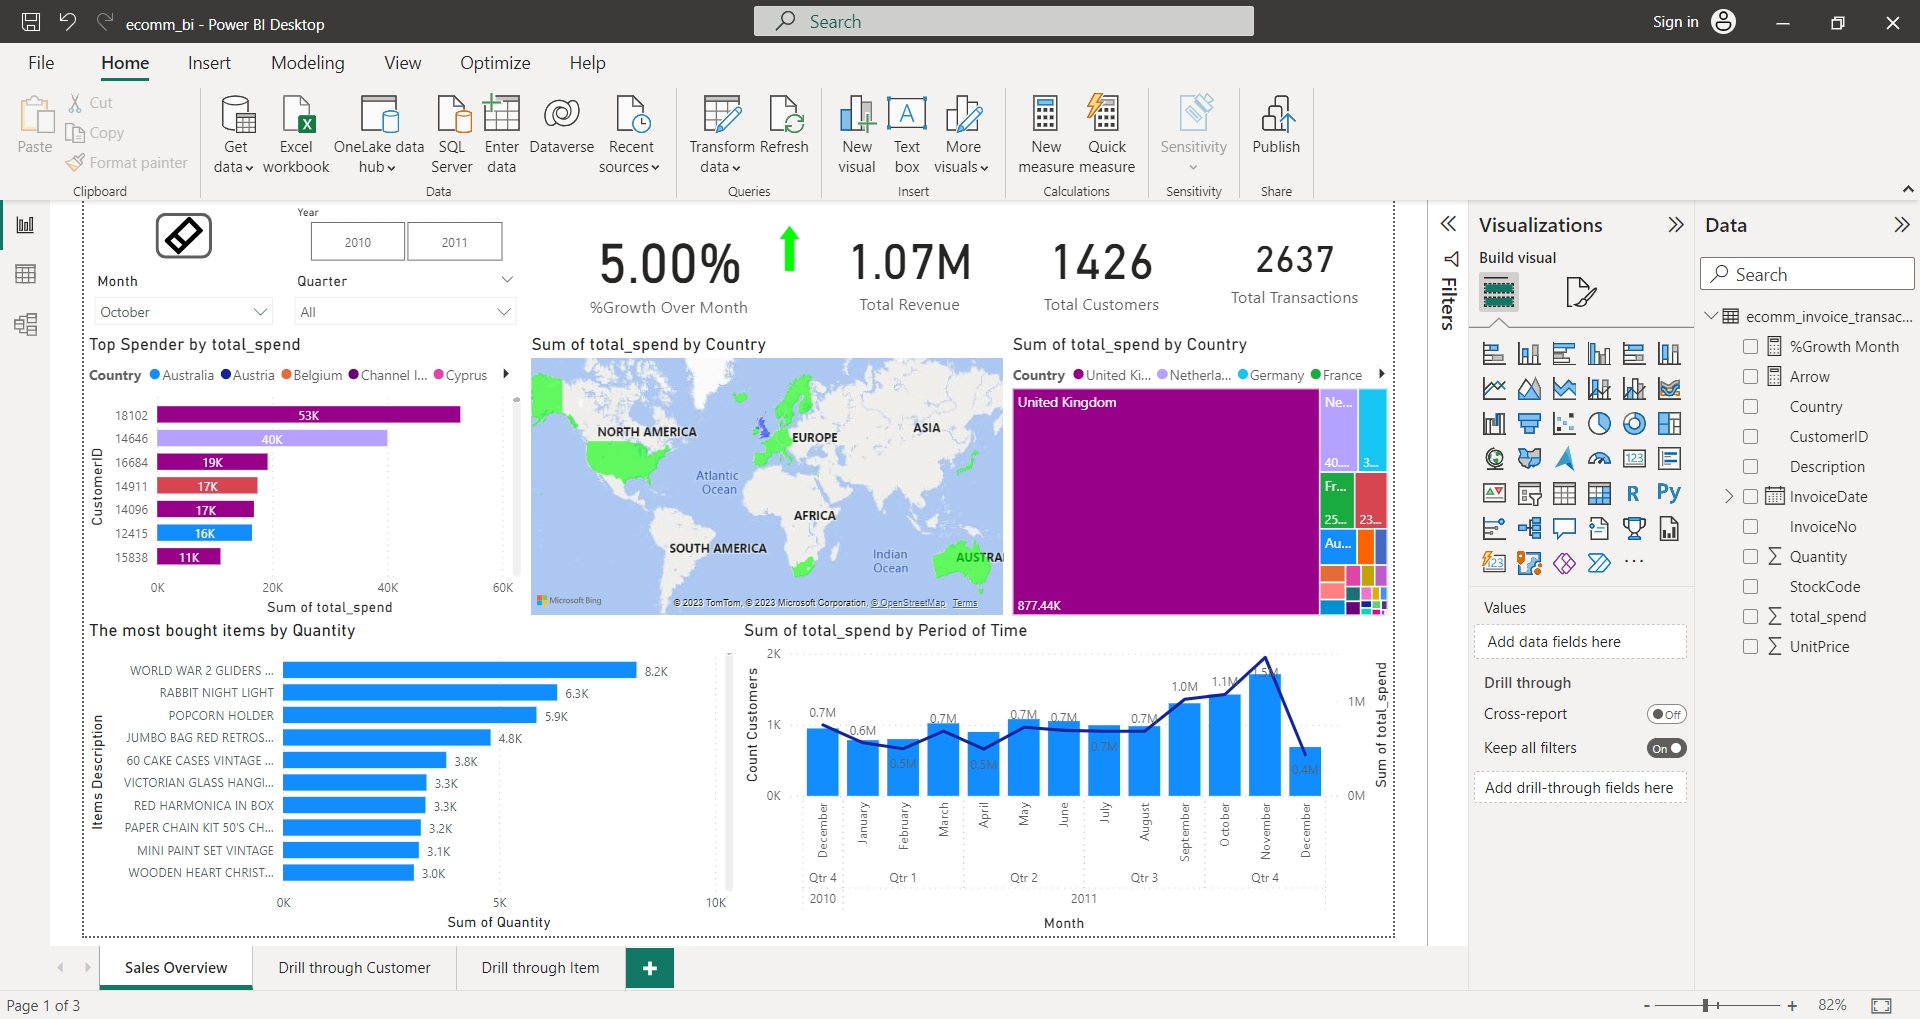

Layout of this report page (visuals, bound fields, positions):
{"tool":"powerbi","page":{"name":"Sales Overview","canvas":[1280,720],"ordinal":0},"visuals":[{"type":"barChart","title":"The most bought items by Quantity","fields":{"Category":["ecomm_invoice_transaction.Description"],"Y":["Sum(ecomm_invoice_transaction.Quantity)"]},"box":[0,411.3,640.3,308.5],"z":0},{"type":"filledMap","fields":{"Category":["ecomm_invoice_transaction.Country"]},"box":[432.5,131.2,471.2,280],"z":1000},{"type":"treemap","fields":{"Group":["ecomm_invoice_transaction.Country"],"Values":["Sum(ecomm_invoice_transaction.total_spend)"]},"box":[903.8,131.2,376.2,280],"z":2000},{"type":"barChart","title":"Top Spender by total_spend","fields":{"Category":["ecomm_invoice_transaction.CustomerID"],"Y":["Sum(ecomm_invoice_transaction.total_spend)"],"Series":["ecomm_invoice_transaction.Country"]},"box":[0,131.2,432.5,280],"z":3000},{"type":"card","fields":{"Values":["Sum(ecomm_invoice_transaction.total_spend)"]},"box":[711.2,0,192.5,131.2],"z":4000},{"type":"card","fields":{"Values":["ecomm_invoice_transaction.%Growth Month"]},"box":[432.5,0,278.8,131.2],"z":5000},{"type":"slicer","fields":{"Values":["ecomm_invoice_transaction.InvoiceDate.Variation.Date Hierarchy.Year"]},"box":[195,0,237.5,66.2],"z":6000},{"type":"slicer","fields":{"Values":["ecomm_invoice_transaction.InvoiceDate.Variation.Date Hierarchy.Month"]},"box":[0,66.2,195,65],"z":7000},{"type":"card","fields":{"Values":["Count(ecomm_invoice_transaction.CustomerID)"]},"box":[903.8,0,183.8,131.2],"z":8000},{"type":"card","fields":{"Values":["Count(ecomm_invoice_transaction.InvoiceNo)"]},"box":[1087.5,0,192.5,131.2],"z":9000},{"type":"slicer","fields":{"Values":["ecomm_invoice_transaction.InvoiceDate.Variation.Date Hierarchy.Quarter"]},"box":[195,66.2,237.5,66.2],"z":10000},{"type":"lineStackedColumnComboChart","title":"Sum of total_spend by Period of Time","fields":{"Y2":["Sum(ecomm_invoice_transaction.total_spend)"],"Y":["Count(ecomm_invoice_transaction.CustomerID)"],"Category":["ecomm_invoice_transaction.InvoiceDate.Variation.Date Hierarchy.Year","ecomm_invoice_transaction.InvoiceDate.Variation.Date Hierarchy.Quarter","ecomm_invoice_transaction.InvoiceDate.Variation.Date Hierarchy.Month"]},"box":[640,411.2,640,308.8],"z":11000},{"type":"actionButton","box":[66.2,8.8,61.2,51.2],"z":12000},{"type":"card","fields":{"Values":["ecomm_invoice_transaction.Arrow"]},"box":[668.7,8.6,42.8,67.2],"z":12001}]}

Visuals, with their boxes on the page's 1280x720 design canvas (x1, y1, x2, y2). These are canvas units, not pixel positions in the 1920x1019 screenshot, which may show the page scaled, cropped or inside an application window:
"The most bought items by Quantity" barChart: <box>0,411,640,720</box>
filledMap - ecomm_invoice_transaction.Country: <box>432,131,904,411</box>
treemap - ecomm_invoice_transaction.Country x Sum(ecomm_invoice_transaction.total_spend): <box>904,131,1280,411</box>
"Top Spender by total_spend" barChart: <box>0,131,432,411</box>
card - Sum(ecomm_invoice_transaction.total_spend): <box>711,0,904,131</box>
card - ecomm_invoice_transaction.%Growth Month: <box>432,0,711,131</box>
slicer - ecomm_invoice_transaction.InvoiceDate.Variation.Date Hierarchy.Year: <box>195,0,432,66</box>
slicer - ecomm_invoice_transaction.InvoiceDate.Variation.Date Hierarchy.Month: <box>0,66,195,131</box>
card - Count(ecomm_invoice_transaction.CustomerID): <box>904,0,1088,131</box>
card - Count(ecomm_invoice_transaction.InvoiceNo): <box>1088,0,1280,131</box>
slicer - ecomm_invoice_transaction.InvoiceDate.Variation.Date Hierarchy.Quarter: <box>195,66,432,132</box>
"Sum of total_spend by Period of Time" lineStackedColumnComboChart: <box>640,411,1280,720</box>
actionButton: <box>66,9,127,60</box>
card - ecomm_invoice_transaction.Arrow: <box>669,9,712,76</box>
